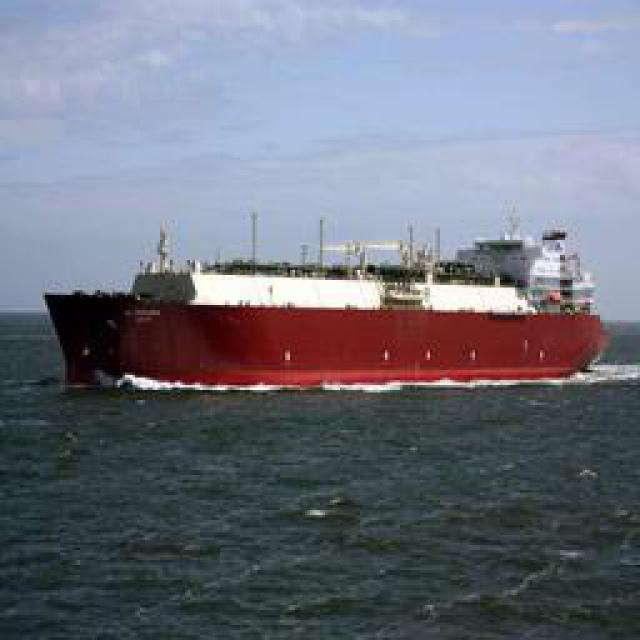Ship: (36, 222, 614, 390)
